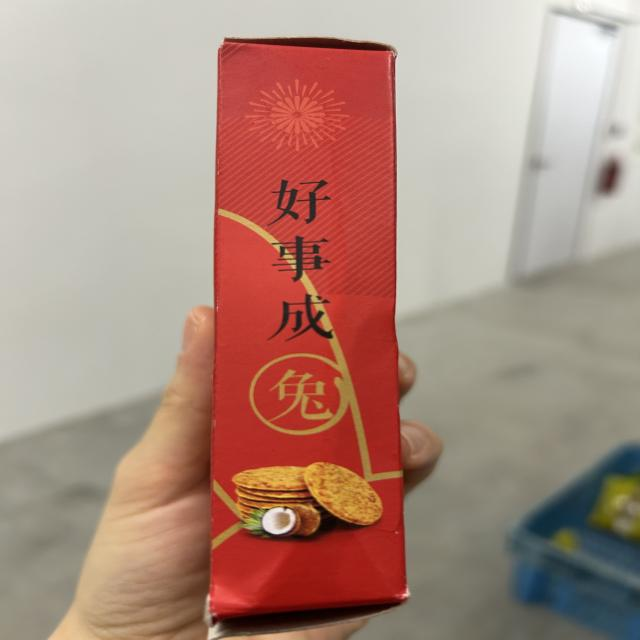object_name: (222, 40, 400, 608)
